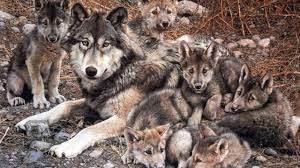Lobo: (62, 1, 151, 115), (6, 1, 63, 100), (176, 34, 224, 121), (182, 125, 249, 161), (118, 123, 178, 162), (230, 57, 268, 118), (135, 3, 200, 33)
